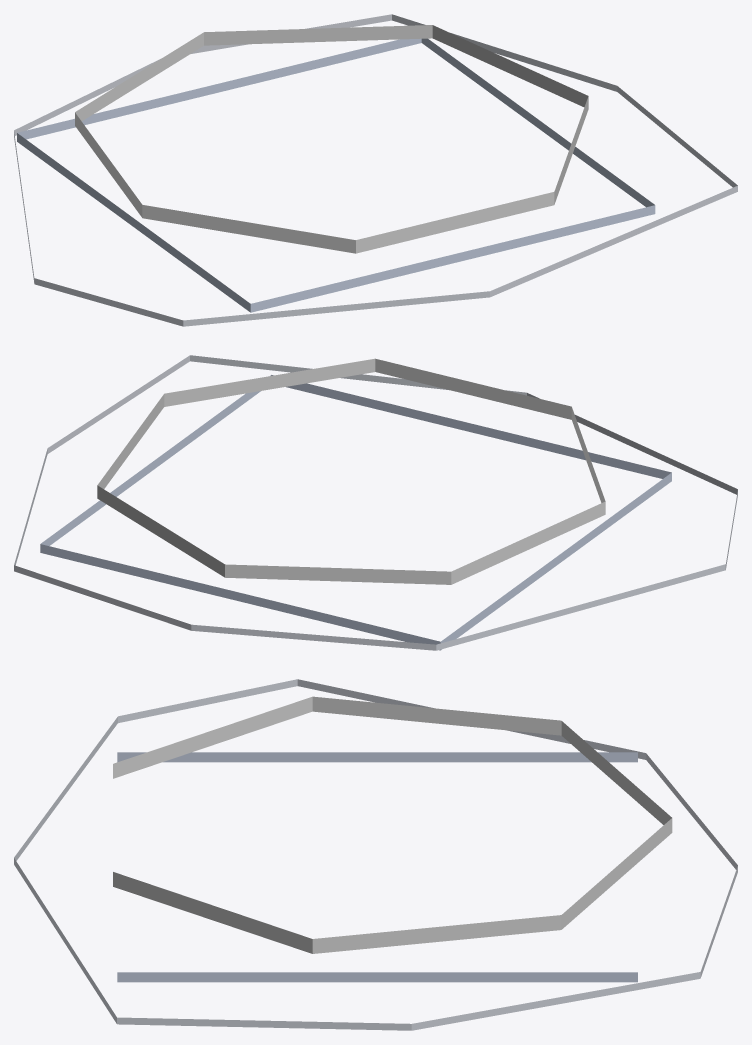
The model's file is water.fbx.
The picture shows the model from 3 angles, top to bottom: view 1: azimuth 30°, elevation 25°; view 2: azimuth 150°, elevation 25°; view 3: azimuth 270°, elevation 25°; orthographic projection. The views are drawn at different scales.
Visible parts, largest first — view 1: barrier, fence, Plane.023; view 2: barrier, fence, Plane.023; view 3: barrier, fence, Plane.023.
Boxes of the visible parts, <box> form: barrier: <box>75,25,588,253</box>; fence: <box>17,38,655,312</box>; Plane.023: <box>14,14,737,326</box>; barrier: <box>97,358,605,584</box>; fence: <box>40,375,671,650</box>; Plane.023: <box>14,355,737,650</box>; barrier: <box>113,696,672,953</box>; fence: <box>117,752,637,982</box>; Plane.023: <box>14,679,737,1030</box>.
Size of what is drawn, in the model's own units: 93.64 by 6.9 by 83.12.
